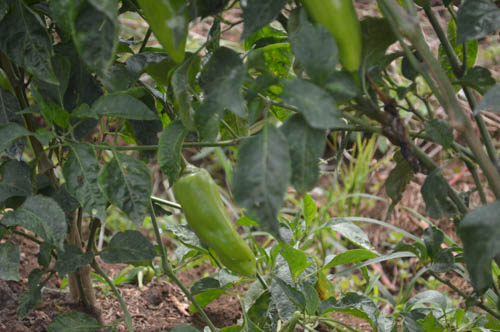ChiliPepper: (179, 175, 259, 280), (306, 5, 368, 68), (141, 4, 188, 58)
